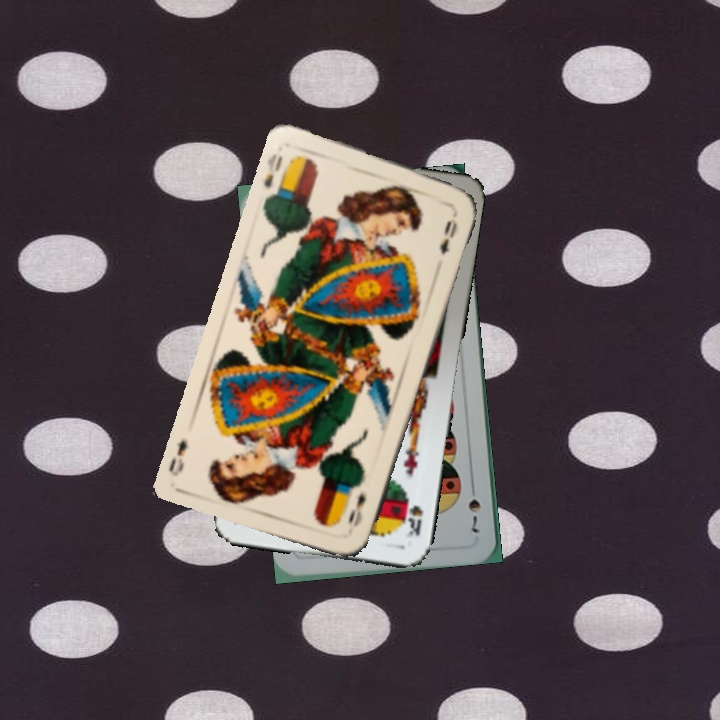EO: (259, 149, 286, 191), (344, 488, 369, 530)
S7: (464, 479, 483, 535)
SK: (402, 501, 426, 540)
